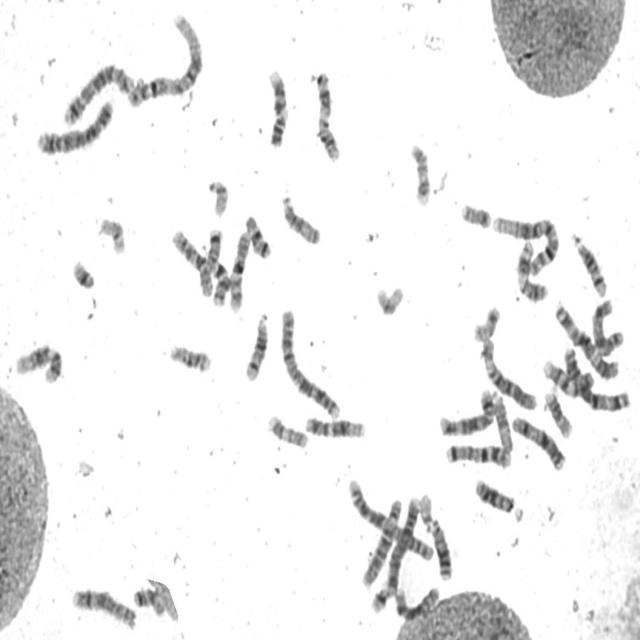A1: (123, 9, 205, 109), (488, 208, 561, 276)
A2: (344, 473, 436, 564), (277, 302, 342, 420)
A3: (551, 296, 621, 381), (560, 341, 632, 414)
B4: (32, 92, 116, 156), (382, 491, 422, 596)
B5: (59, 58, 136, 128), (436, 384, 497, 438)
C10: (168, 222, 214, 298), (226, 225, 252, 314)
C11: (311, 65, 342, 164), (512, 236, 549, 304)
C12: (11, 336, 65, 386), (302, 409, 367, 441)
C6: (478, 333, 538, 413), (358, 492, 404, 590)
C7: (202, 222, 231, 309), (443, 438, 512, 470)
C8: (68, 582, 139, 632), (391, 580, 441, 622)
C9: (540, 353, 594, 399), (264, 62, 290, 149)
D13: (472, 473, 516, 515), (428, 512, 453, 582)
D14: (568, 227, 608, 298), (241, 307, 270, 383)
D15: (278, 189, 322, 246), (489, 384, 515, 454)
E16: (541, 385, 574, 439), (165, 338, 213, 374)
E17: (264, 408, 310, 449), (406, 136, 432, 208)
E18: (241, 210, 273, 260), (130, 582, 166, 619)
F19: (95, 212, 126, 255), (372, 279, 406, 316)
F20: (470, 300, 502, 343), (457, 197, 492, 230)
G21: (68, 254, 96, 291), (367, 578, 392, 614)
G22: (205, 174, 230, 219), (416, 487, 434, 533)
X: (508, 410, 567, 472), (589, 293, 626, 357)
